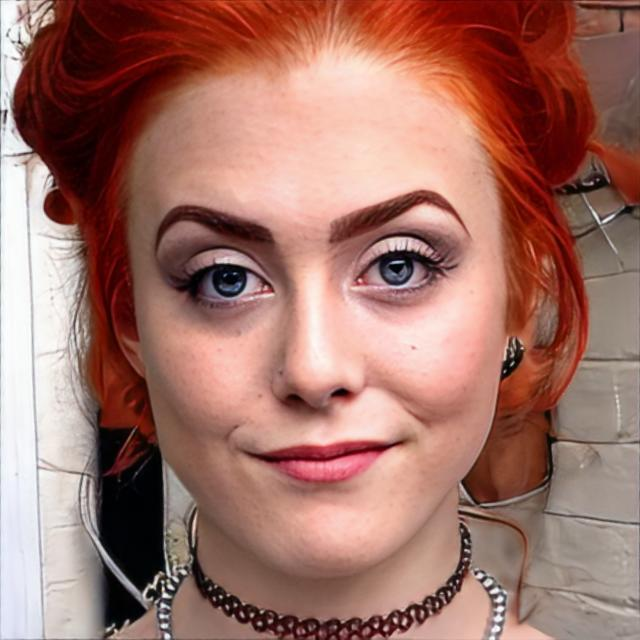content: (122, 39, 510, 578)
